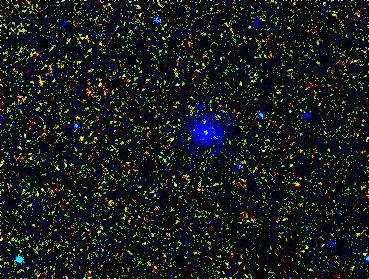star: (192, 109, 222, 139)
